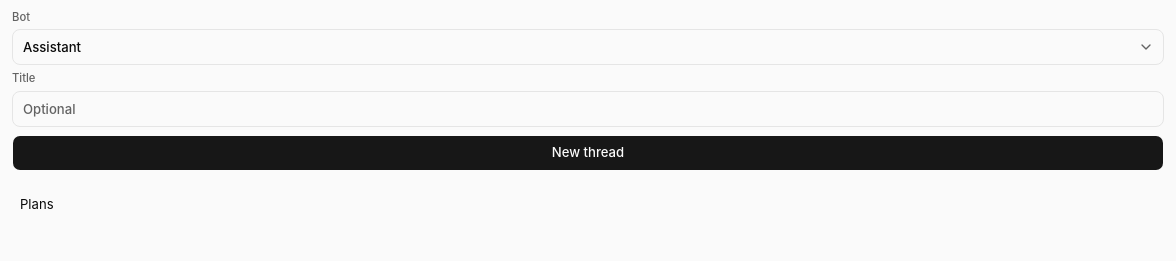
ThreadsContainer › lists threads and creates one with the chosen bot
The width and height of the screenshot is (1176, 261).
Expected: the button "Plans" is shown, [12, 186, 1164, 221]
Select "Helper" in the dropdown labelled "Bot": [588, 47] box [12, 29, 1164, 65]
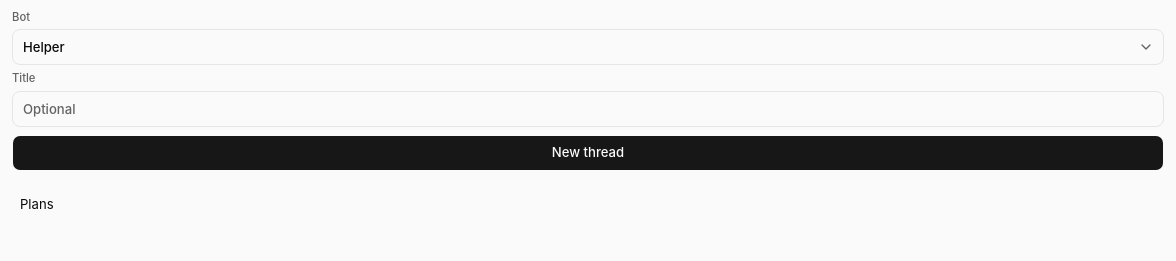
In the field labelled "Title": [588, 108] box [12, 90, 1164, 126], type "Taxes"
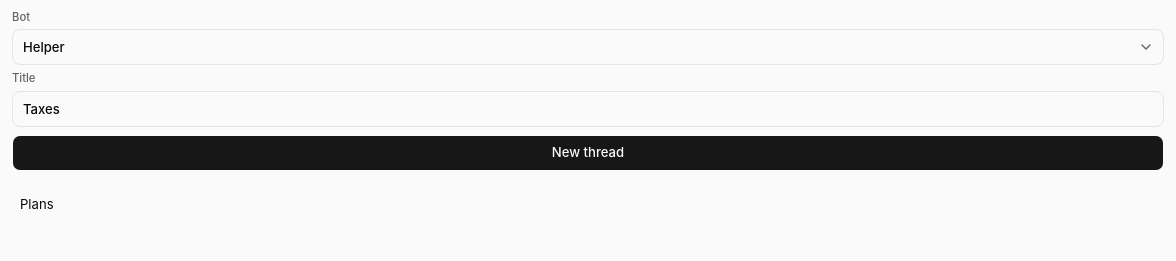
Click the button "New thread": [588, 152] box [12, 134, 1164, 170]
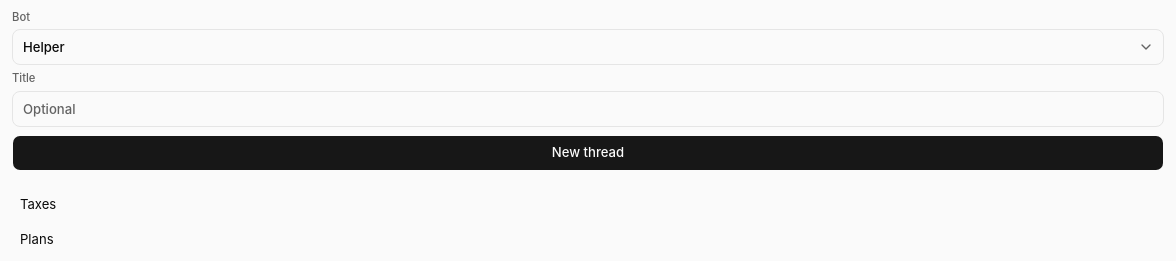
Expected: the button "Taxes" is shown, [12, 186, 1164, 221]
